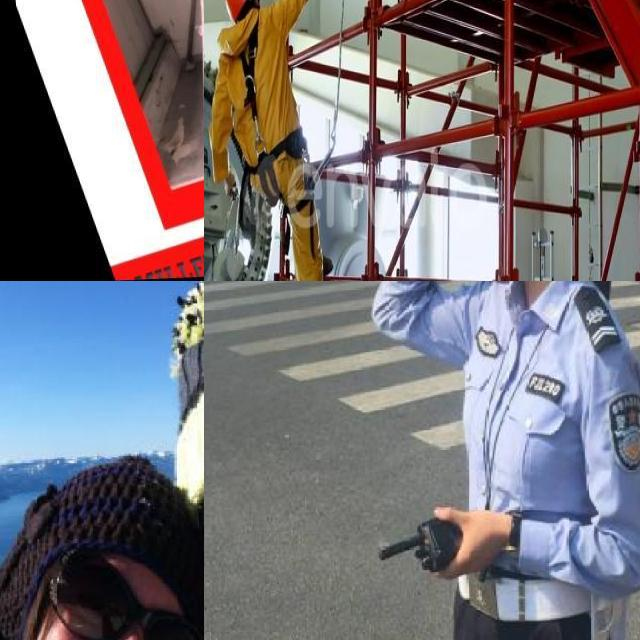Harness: (239, 22, 306, 198)
face_nomask: (24, 543, 193, 640)
glasses: (34, 545, 204, 640)
hand_noglove: (427, 501, 511, 580)
person: (366, 281, 640, 640)
